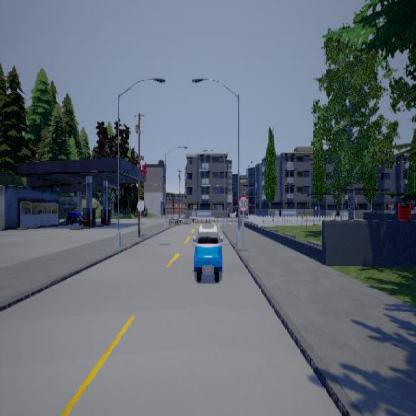traffic_sign_30: (237, 194, 248, 211)
vehicle: (192, 222, 226, 282)
